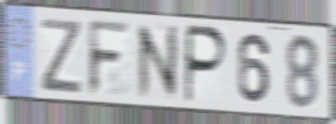6: (236, 31, 273, 106)
8: (284, 32, 320, 112)
F: (86, 17, 133, 99)
N: (134, 22, 181, 102)
P: (182, 23, 230, 107)
Z: (40, 15, 83, 96)
